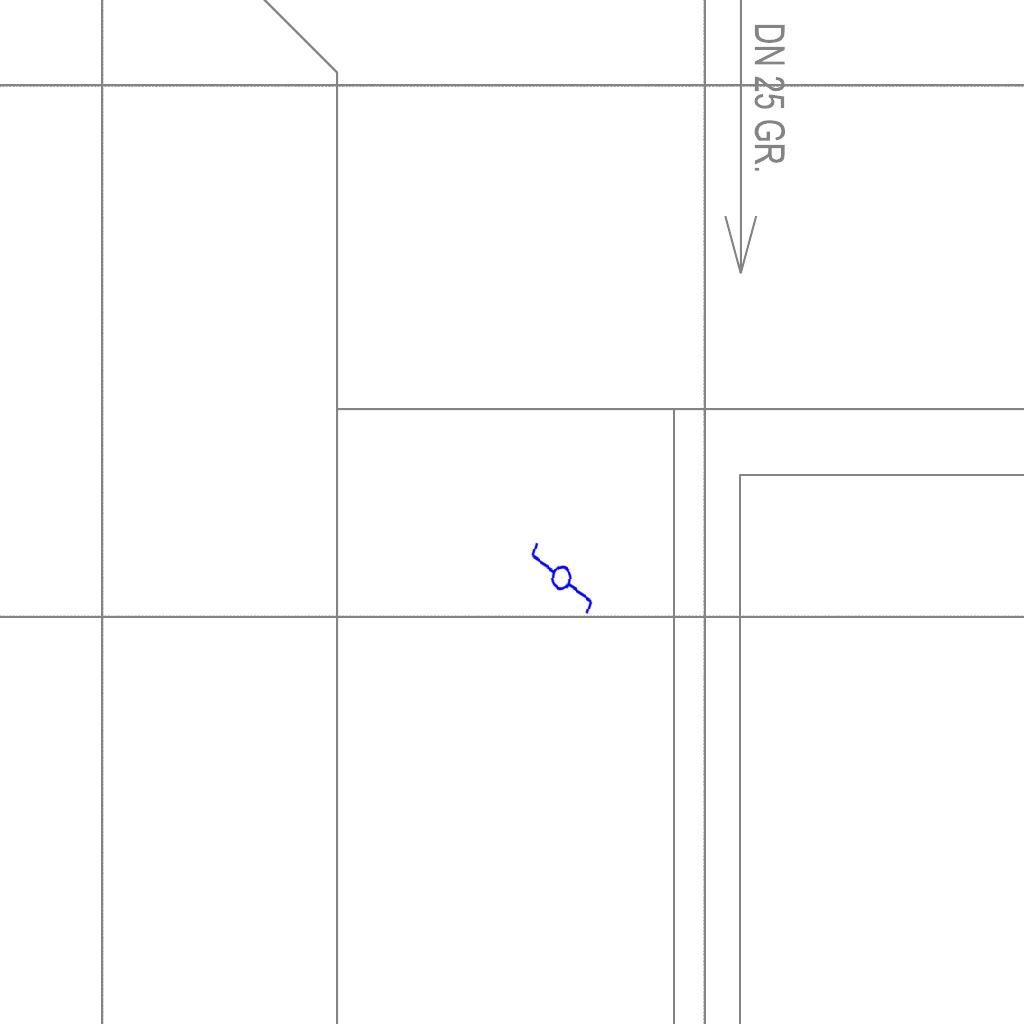Wechselschalter: (523, 531, 603, 617)
